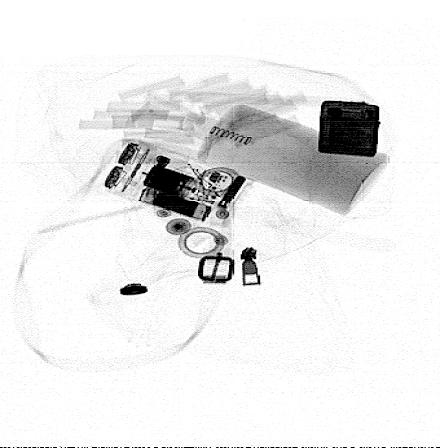Lighter: (317, 100, 380, 157)
